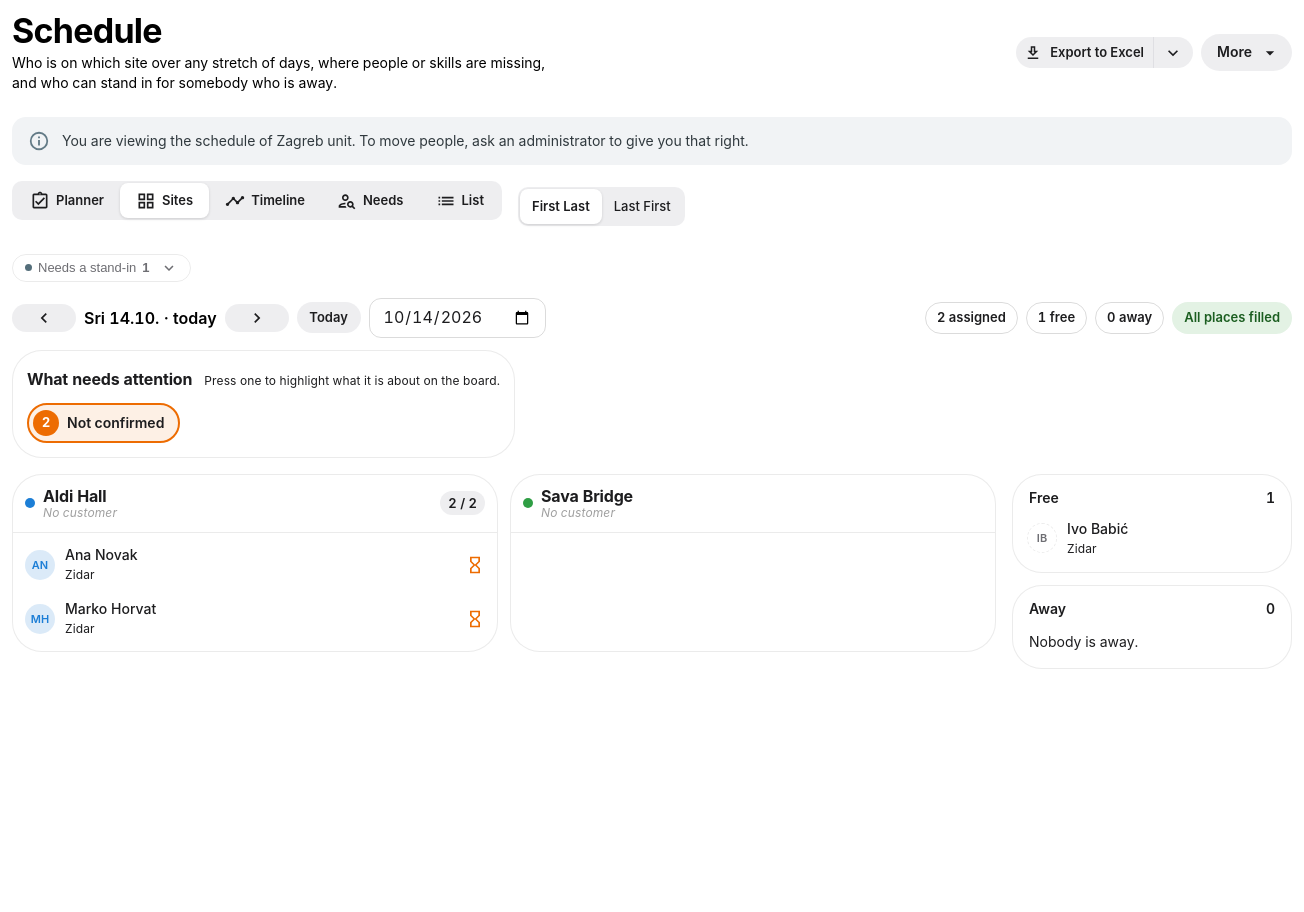
Scenario: PlanningPage › for a foreman › shows the unit they follow, with nothing to press when they may not move people
Expected: the text "You are viewing the schedule of Zagreb unit" is shown, left=62, top=132, right=748, bottom=149
Click the button "Needs a stand-in 1".
click(101, 268)  # box left=12, top=254, right=190, bottom=282
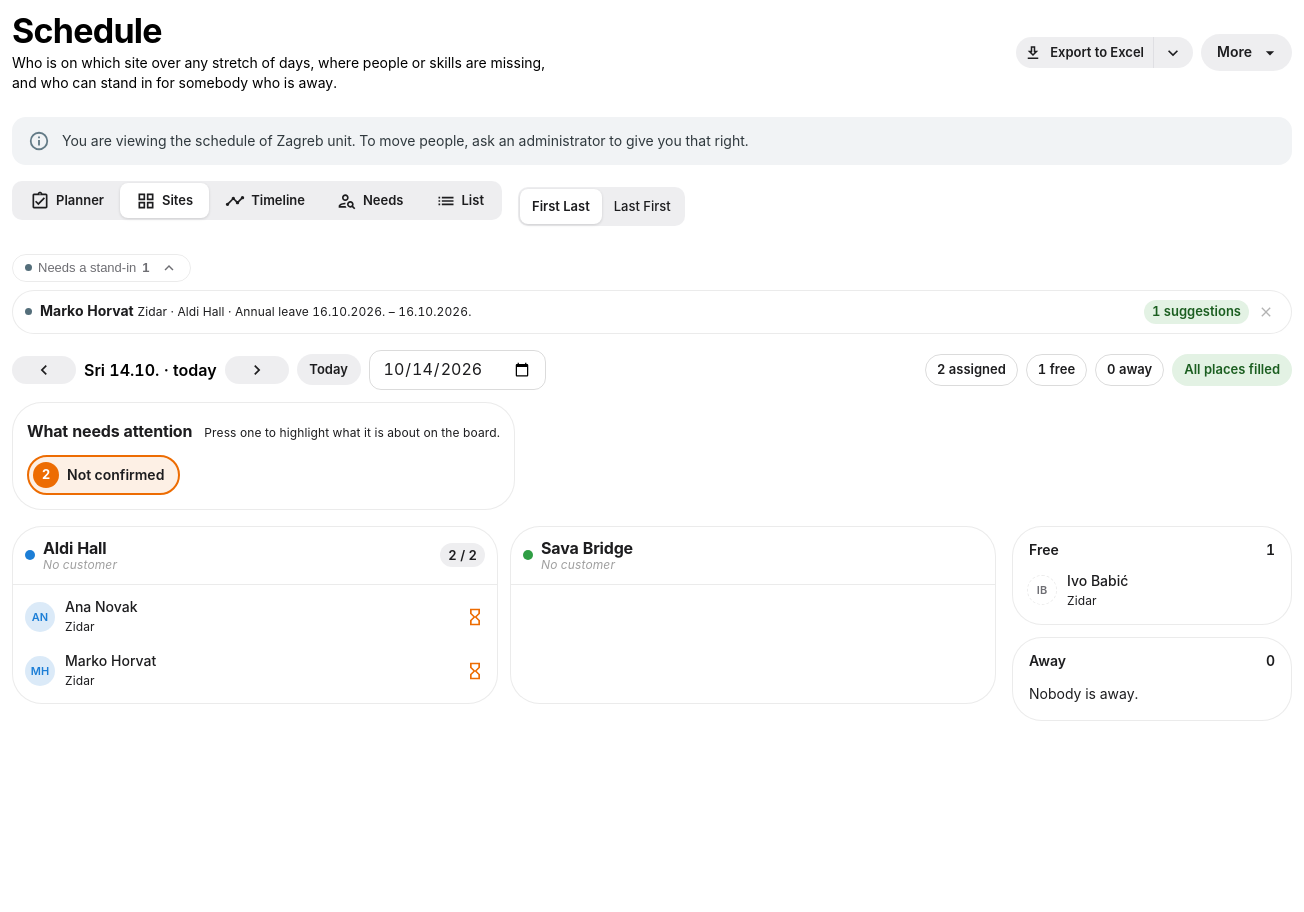
Click the button "More".
click(1246, 53)  # box left=1201, top=34, right=1292, bottom=71
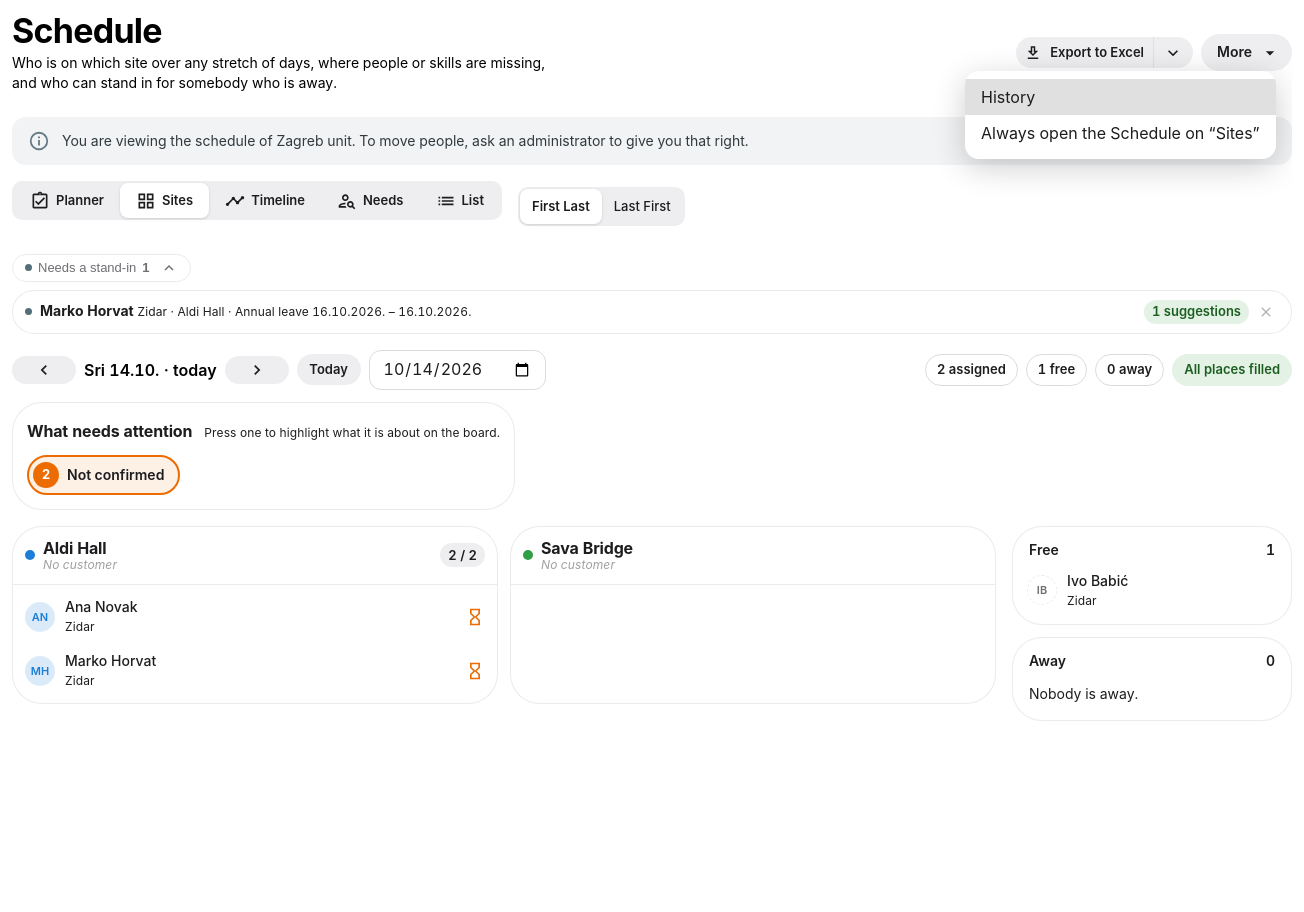
Now the menu item "History" is shown, box left=965, top=79, right=1276, bottom=115
